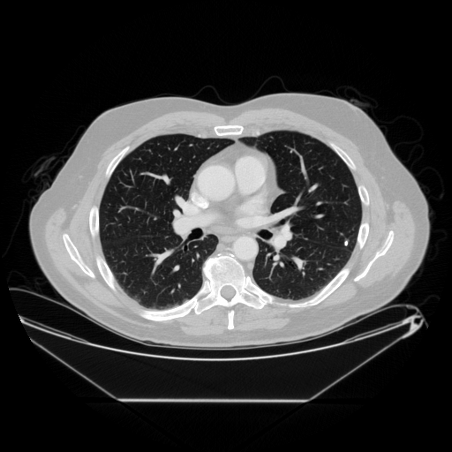nodule: (343, 240, 349, 246)
